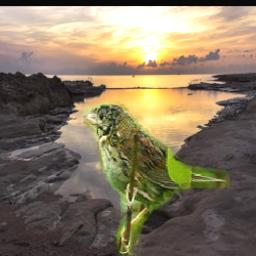Sparrow: (83, 101, 230, 256)
